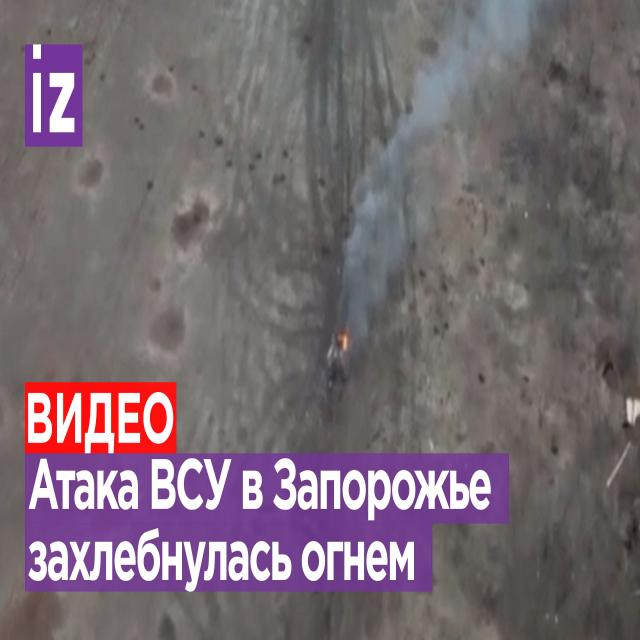destroyed: (326, 327, 350, 387)
